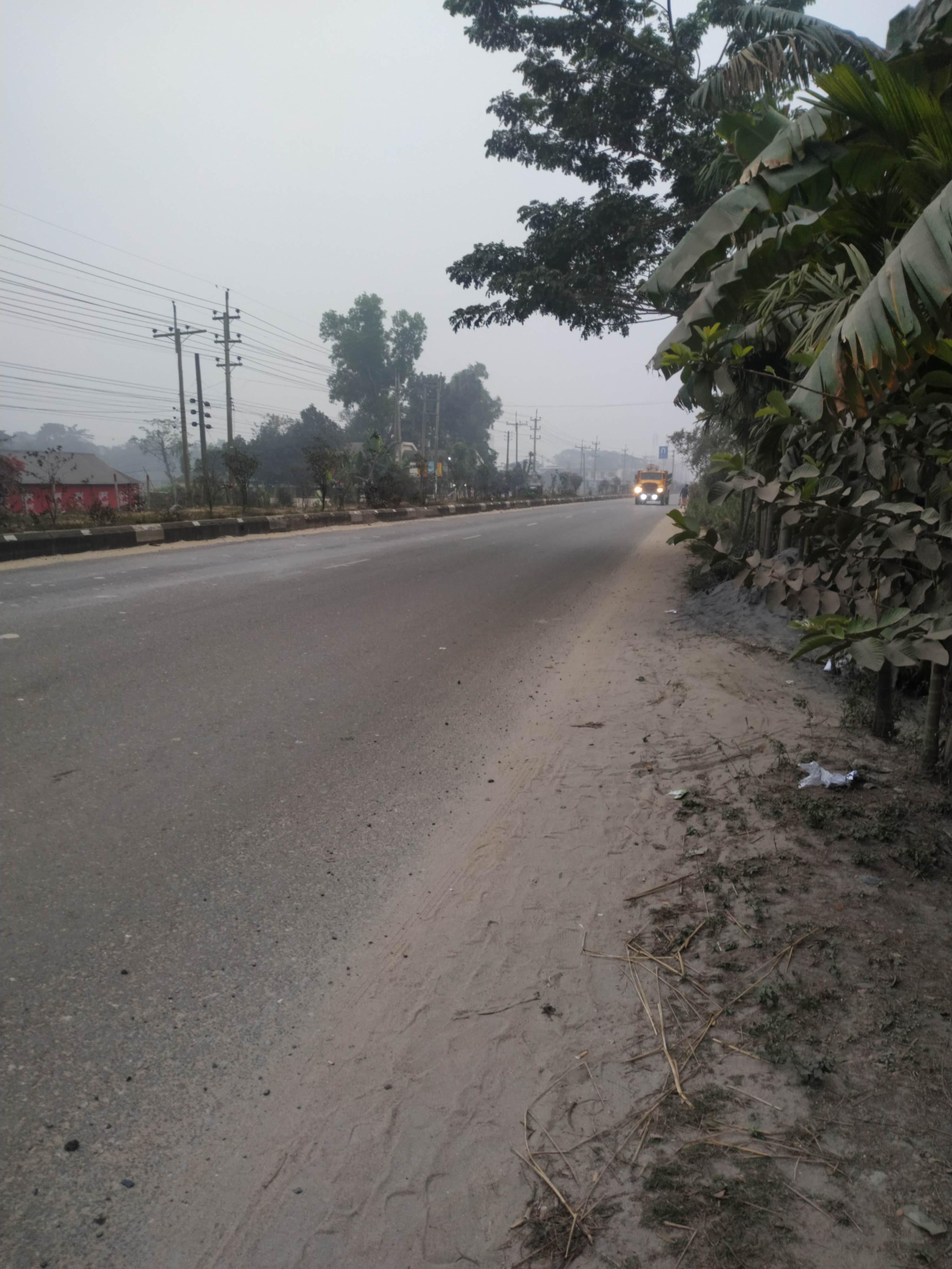Truck: (628, 458, 677, 518)
